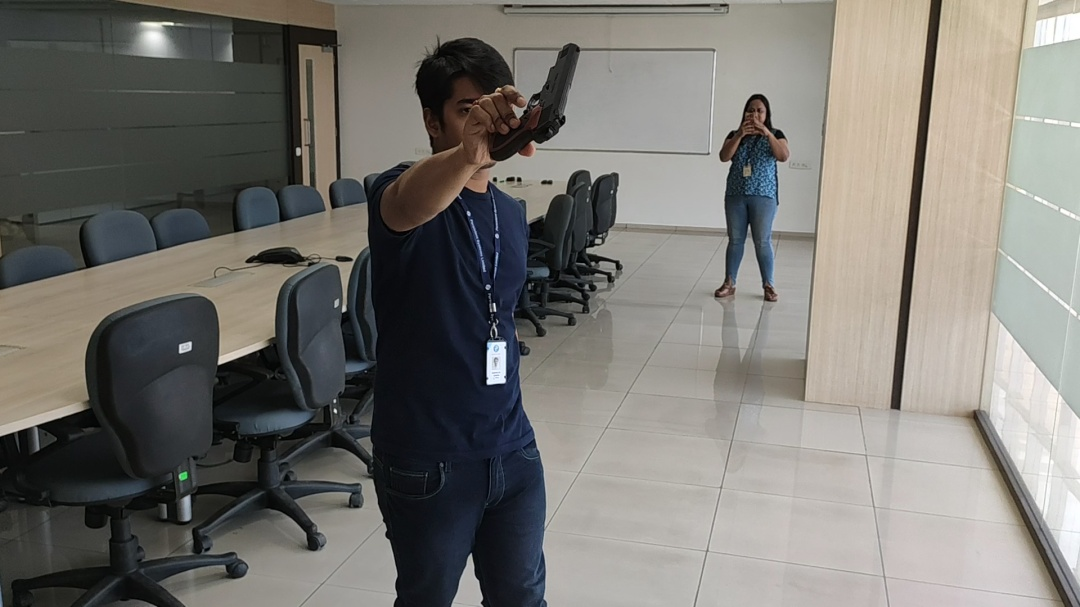gun: (520, 39, 583, 146)
